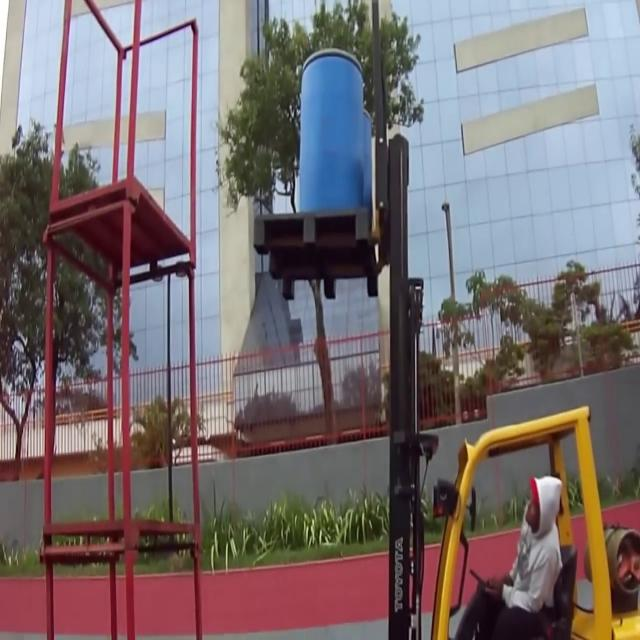Chariot elevateur: (378, 394, 640, 640)
